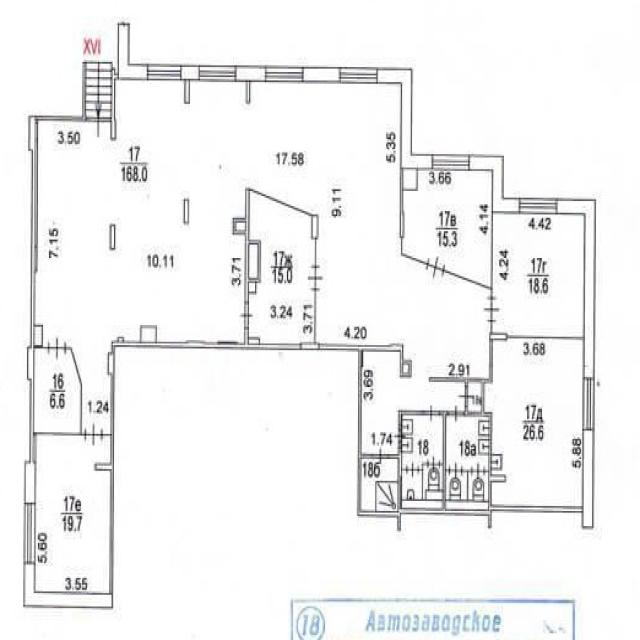Bathrooms: (447, 416, 488, 470), (402, 416, 442, 468), (362, 458, 398, 511), (423, 466, 442, 499), (468, 472, 488, 500), (402, 471, 421, 499), (447, 472, 466, 499)
Corridors: (35, 80, 491, 432), (362, 352, 464, 454), (248, 192, 315, 344), (469, 382, 481, 411)
Doors: (424, 255, 447, 282), (45, 337, 68, 361), (483, 295, 502, 324), (83, 422, 104, 448), (307, 263, 325, 293), (239, 300, 255, 329), (456, 385, 476, 407), (469, 460, 486, 481), (448, 461, 464, 483), (425, 454, 441, 475), (449, 404, 465, 424), (373, 445, 389, 464), (405, 460, 420, 479), (424, 405, 439, 422)
LBwalls: (557, 198, 597, 378), (378, 68, 432, 170), (24, 564, 112, 609), (469, 154, 520, 214), (117, 22, 148, 80), (582, 429, 594, 528), (180, 64, 200, 105), (303, 66, 340, 83), (236, 65, 265, 82), (111, 70, 117, 140), (25, 462, 35, 503), (403, 168, 418, 192), (140, 325, 157, 343), (27, 347, 34, 381), (29, 116, 36, 150), (34, 326, 43, 347), (312, 214, 319, 239), (108, 352, 115, 376), (110, 223, 115, 249), (184, 198, 189, 223), (491, 475, 506, 483), (490, 333, 507, 339), (249, 282, 257, 293), (249, 337, 260, 344), (247, 81, 250, 105)
Offices: (485, 340, 583, 507), (36, 437, 110, 594), (493, 213, 584, 336), (403, 170, 492, 286), (34, 348, 79, 432)
Stairs: (82, 59, 111, 140)
Walls: (111, 291, 582, 532), (232, 187, 312, 301), (29, 346, 85, 462), (94, 375, 114, 594), (445, 213, 494, 297), (399, 167, 425, 267), (30, 120, 38, 346), (36, 116, 82, 122), (507, 336, 584, 339), (421, 462, 423, 500), (315, 238, 317, 263), (467, 469, 468, 500), (116, 74, 119, 80), (464, 469, 470, 472), (402, 467, 405, 472), (485, 469, 489, 472), (422, 462, 426, 465), (446, 468, 449, 472), (419, 468, 422, 471), (42, 346, 46, 348), (441, 463, 443, 466)
Windows: (340, 67, 377, 84), (200, 65, 236, 82), (25, 503, 35, 564), (265, 66, 303, 82), (148, 63, 181, 80), (432, 154, 469, 169), (519, 198, 556, 213), (583, 377, 593, 430)
